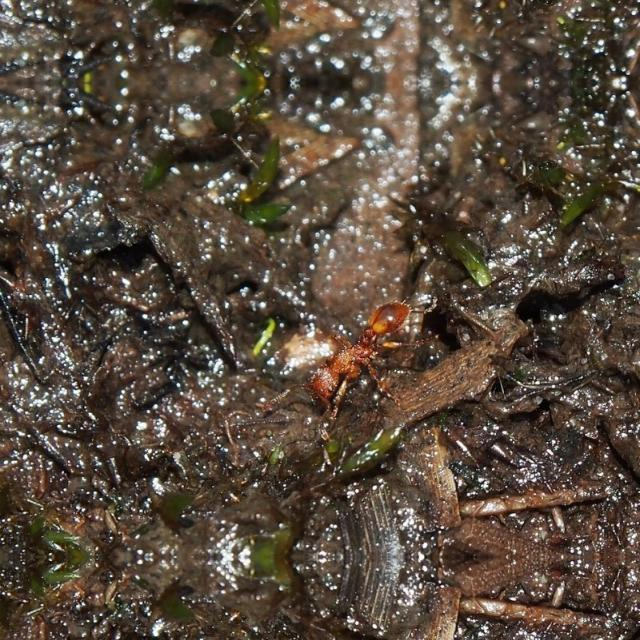Myrmica: (289, 279, 423, 416)
